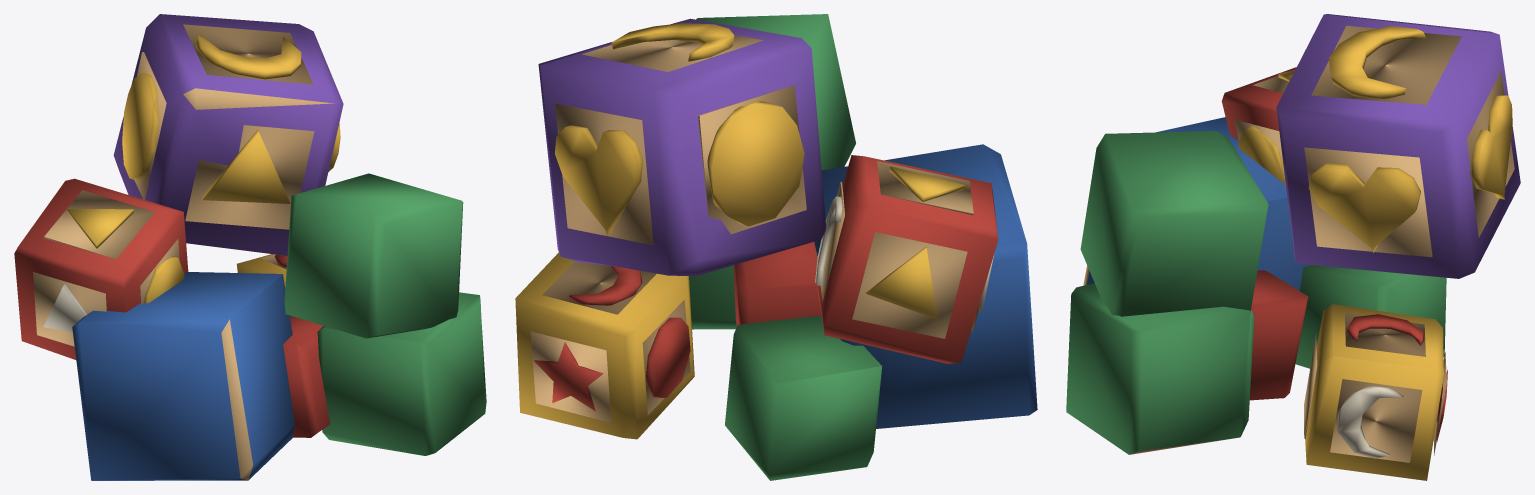
File: den_toy_pile_c_lod2.glb
3 views of the same model, side by side, from view 1: azimuth 30°, elevation 25°; view 2: azimuth 150°, elevation 25°; view 3: azimuth 270°, elevation 25° (orthographic). The views are drawn at different scales.
Visible parts, largest first — view 1: den_toy_pile_c.001; view 2: den_toy_pile_c.001; view 3: den_toy_pile_c.001.
Boxes of the visible parts, box(x1,y1,x2,y2) form: den_toy_pile_c.001: box(14, 14, 486, 480); den_toy_pile_c.001: box(515, 14, 1037, 480); den_toy_pile_c.001: box(1066, 14, 1520, 480).
Bounding box in the file's own units: 5.8 × 5.04 × 5.51.
